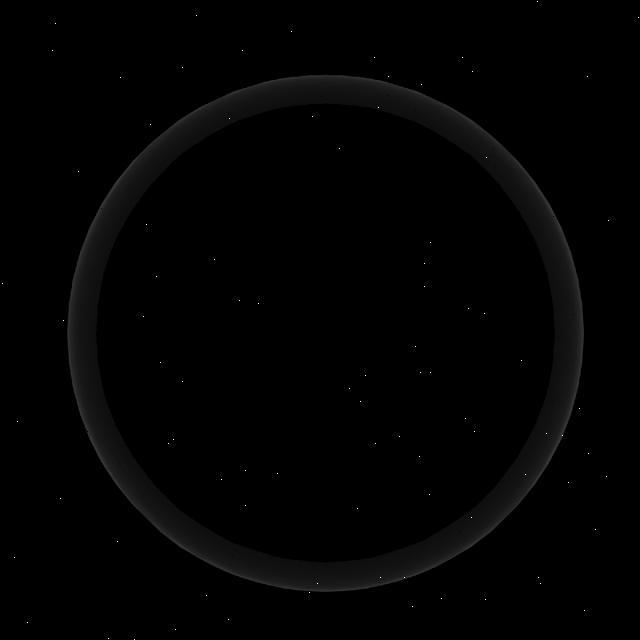Circle: (67, 72, 588, 592)
